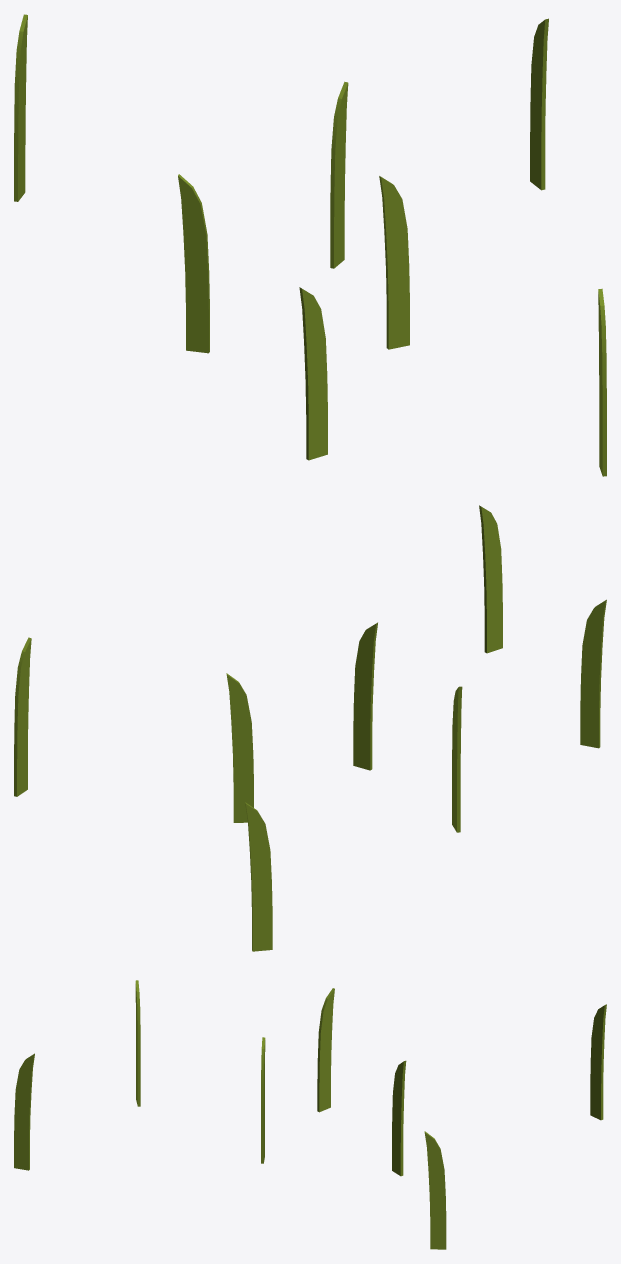
The model's file is Grass_Blade_Cluster.fbx.
3 renders of one model, top to bottom at view 1: azimuth 30°, elevation 25°; view 2: azimuth 150°, elevation 25°; view 3: azimuth 270°, elevation 25°, orthographic. The views are drawn at different scales.
Visible parts, largest first — view 1: pCube14, pCube17, pCube18, pCube15, pCube19, pCube16, pCube13; view 2: pCube16, pCube18, pCube19, pCube17, pCube13, pCube15, pCube14; view 3: pCube15, pCube13, pCube14, pCube16, pCube19, pCube18, pCube17.
Boxes of the visible parts, left/top/right/bottom form: pCube14: left=178, top=174, right=209, bottom=353; pCube17: left=379, top=176, right=409, bottom=349; pCube18: left=299, top=287, right=327, bottom=460; pCube15: left=530, top=18, right=548, bottom=190; pCube19: left=330, top=81, right=348, bottom=268; pCube16: left=14, top=14, right=27, bottom=201; pCube13: left=598, top=288, right=606, bottom=476; pCube16: left=245, top=802, right=272, bottom=951; pCube18: left=580, top=599, right=606, bottom=748; pCube19: left=226, top=673, right=253, bottom=822; pCube17: left=353, top=622, right=377, bottom=770; pCube13: left=479, top=505, right=502, bottom=653; pCube15: left=14, top=637, right=31, bottom=796; pCube14: left=452, top=686, right=462, bottom=832; pCube15: left=424, top=1131, right=446, bottom=1249; pCube13: left=14, top=1053, right=34, bottom=1170; pCube14: left=317, top=988, right=334, bottom=1112; pCube16: left=590, top=1004, right=606, bottom=1120; pCube19: left=392, top=1060, right=406, bottom=1176; pCube18: left=135, top=980, right=140, bottom=1106; pCube17: left=261, top=1037, right=265, bottom=1163.
Bounding box in the file's own units: 125 × 44.7 × 205.
